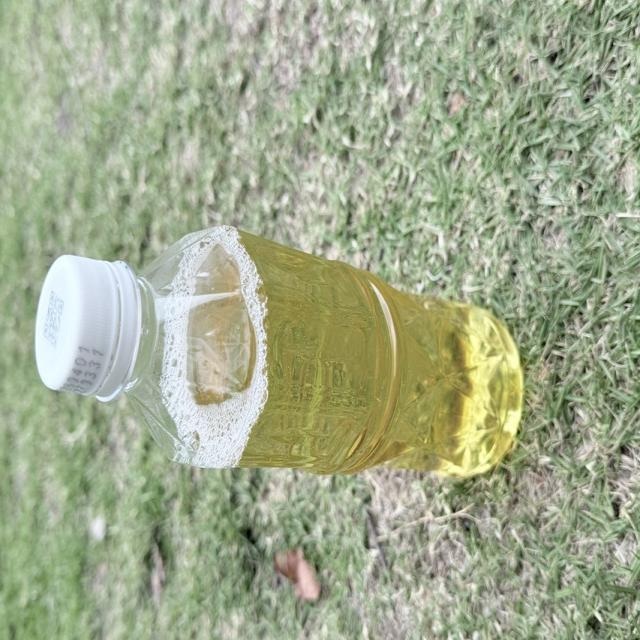high: (35, 226, 521, 475)
